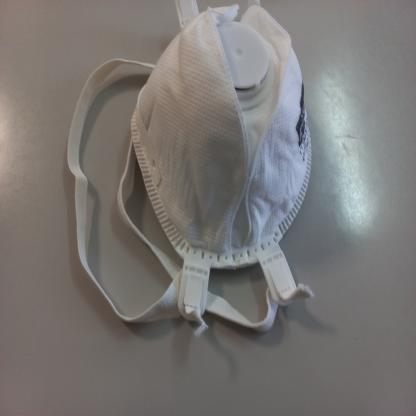mask: (138, 0, 308, 259)
